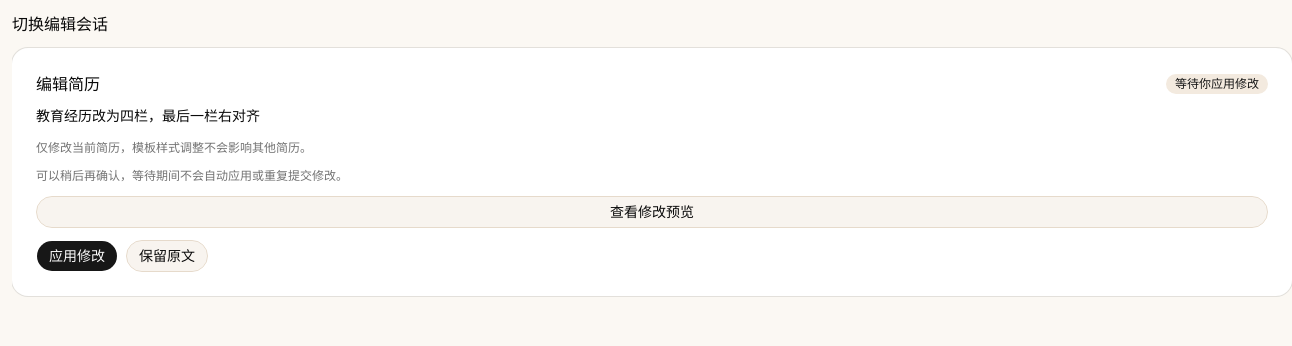
it: editor request decisions › retries only the acknowledgement after a transport failure
Click the button "应用修改" at (77, 256), box [36,240,118,272]
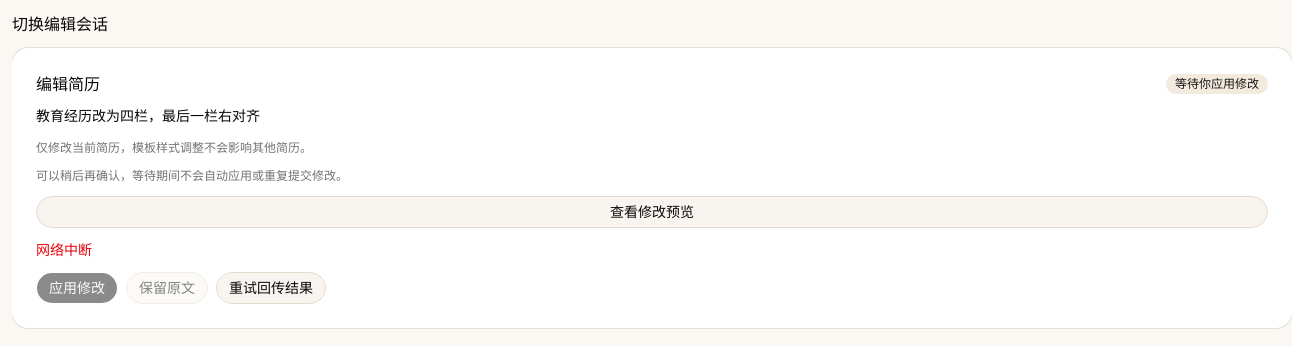
Now the text "网络中断" is shown, box [36,241,92,258]
Click the button "重试回传结果" at (271, 288), box [216,272,326,304]
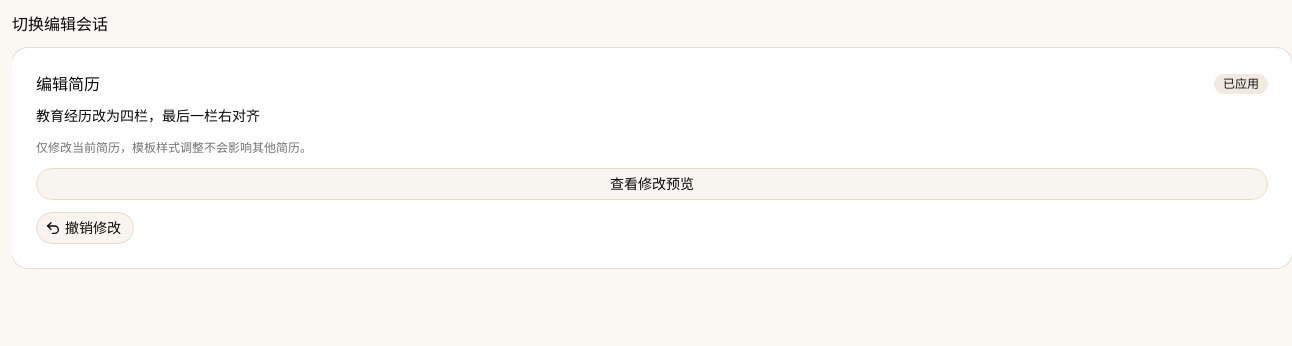
Now the icon "已应用" is shown, box [1214,74,1268,94]
